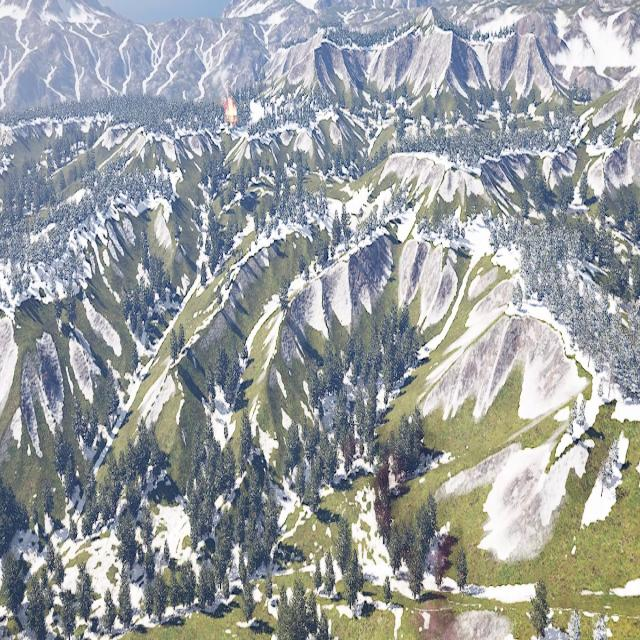fire: (224, 100, 236, 121)
smoke: (208, 68, 230, 102)
